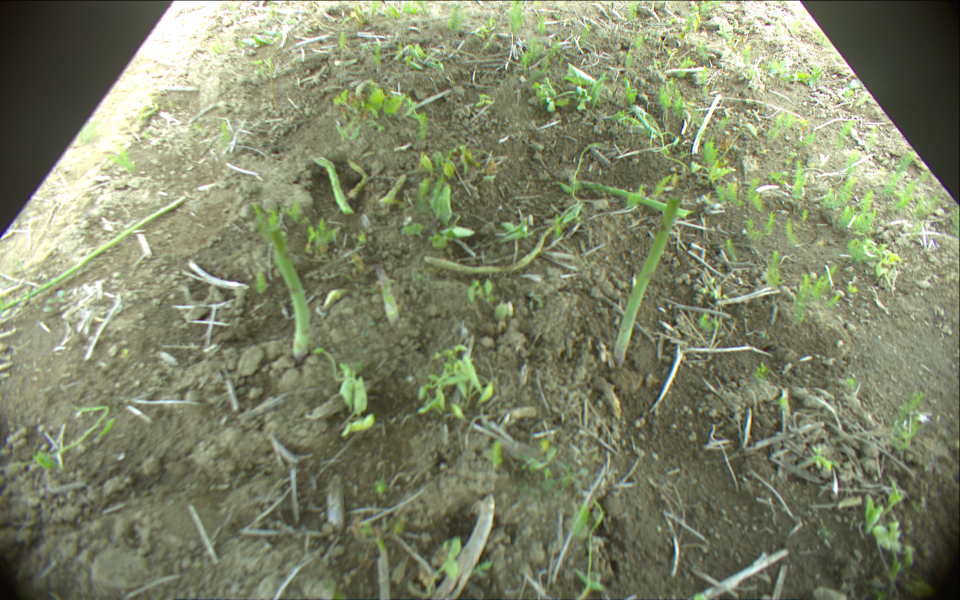aspa: (1, 195, 186, 311), (613, 197, 683, 362), (252, 204, 312, 360), (423, 216, 567, 274), (572, 182, 691, 218), (314, 156, 353, 216), (375, 262, 399, 324), (346, 156, 367, 200)
